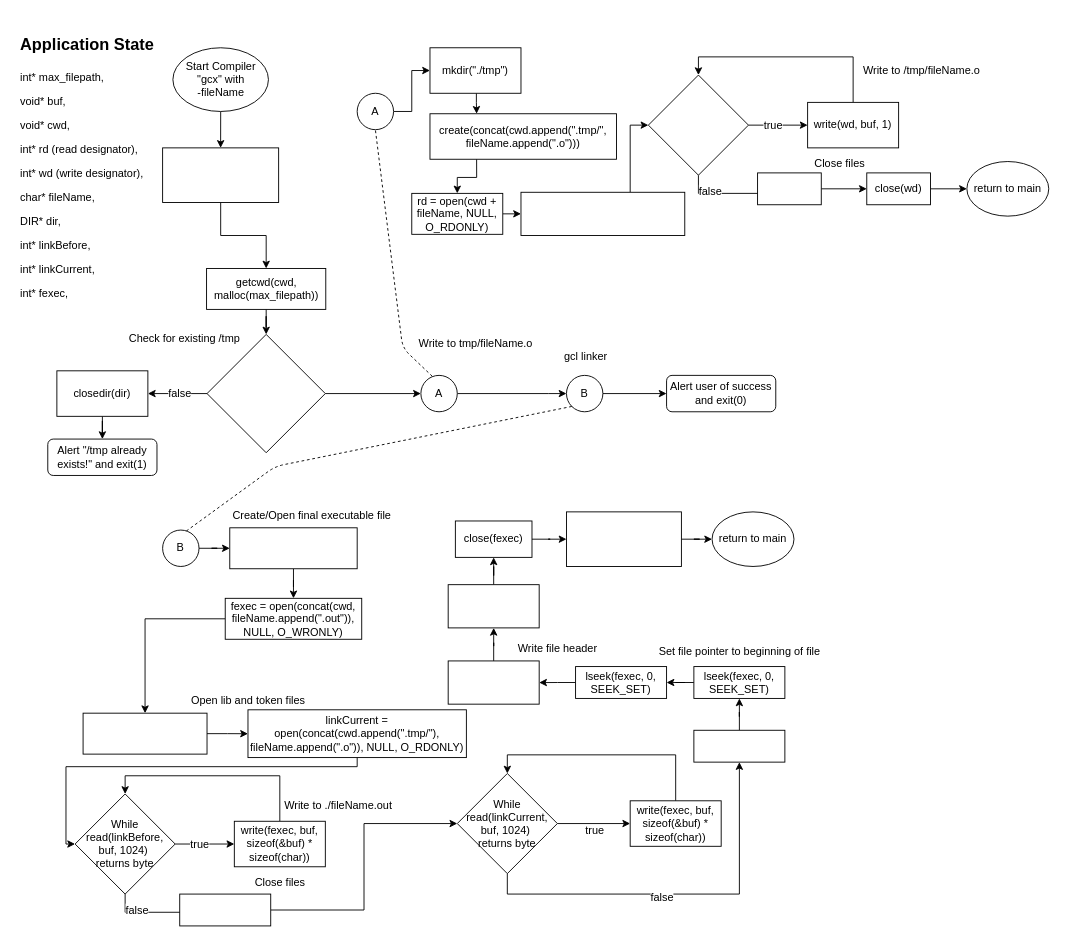
Image size: 1065x942. Some labels were removed from this diagram. Here are the shapes that lost their labels. From the top down, the box of each, then its label:
(647, 74, 748, 175): While read(rd, buf, 1) returns byte
(162, 147, 279, 202): Allocate program variables
(757, 172, 821, 205): close(rd)
(520, 191, 685, 236): wd = open(concat(cwd.append(".tmp/", fileName.append(".o")), NULL, O_WRONLY )
(206, 334, 325, 453): If (dir = opendir("./tmp")) == NULL
(229, 527, 357, 569): create(concat(cwd, fileName.append(".out")))
(566, 511, 681, 566): rmdir("./tmp")
(447, 584, 539, 628): write(fexec, checksum, 8)
(447, 660, 539, 704): Generate Checksum header of fexec
(82, 712, 207, 754): linkBefore = open("/lib/system.out", NULL, O_RDONLY)
(693, 729, 785, 762): close(linkCurrent)
(179, 893, 271, 926): close(linkBefore)
